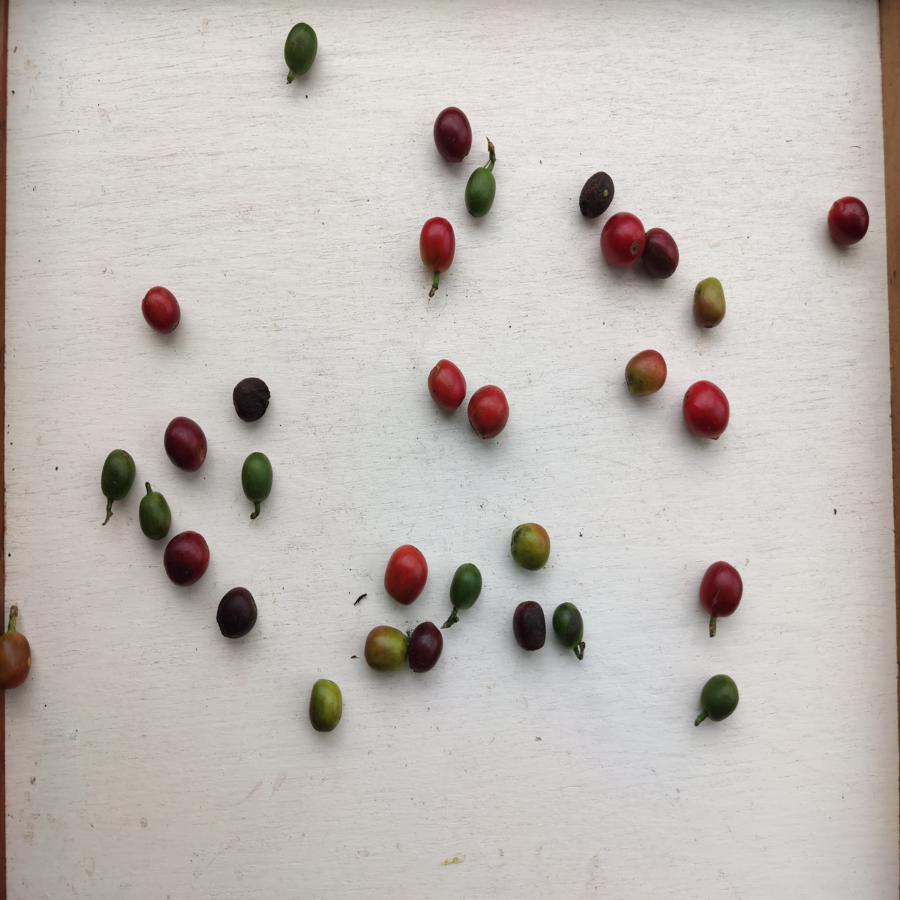Inmaduro: (239, 451, 279, 505), (699, 673, 743, 721), (99, 448, 136, 504), (283, 21, 319, 78), (448, 561, 486, 613), (550, 601, 589, 651), (464, 166, 499, 217), (137, 490, 171, 541)
Maduro: (681, 379, 734, 443), (382, 543, 431, 609), (598, 213, 646, 269), (699, 560, 744, 618), (824, 196, 872, 249), (466, 382, 509, 441), (426, 360, 468, 415), (419, 218, 457, 274), (139, 289, 184, 334)
Pinton: (308, 679, 350, 739), (622, 348, 669, 399), (1, 624, 32, 696), (509, 521, 551, 571), (363, 626, 407, 672), (693, 276, 727, 330)
Sobremaduro: (211, 584, 259, 646), (164, 413, 208, 474), (164, 531, 211, 587), (431, 106, 473, 164), (226, 374, 274, 424), (509, 599, 550, 656), (645, 226, 682, 283), (408, 621, 444, 676), (578, 172, 614, 217)
